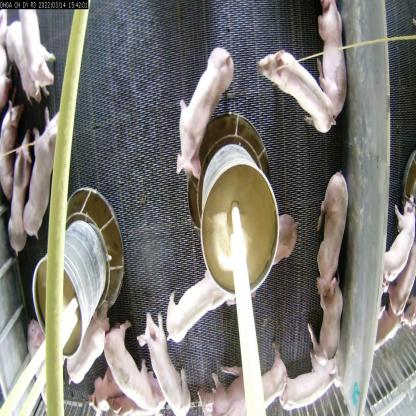Pig: (170, 42, 240, 186), (21, 105, 77, 248), (100, 333, 167, 415), (210, 346, 288, 415), (140, 310, 187, 410), (307, 0, 347, 117), (17, 0, 61, 103), (282, 340, 339, 416), (312, 172, 347, 288), (253, 51, 328, 102), (2, 29, 41, 114), (4, 140, 32, 252), (66, 313, 108, 382), (1, 96, 20, 206), (317, 280, 341, 356)
